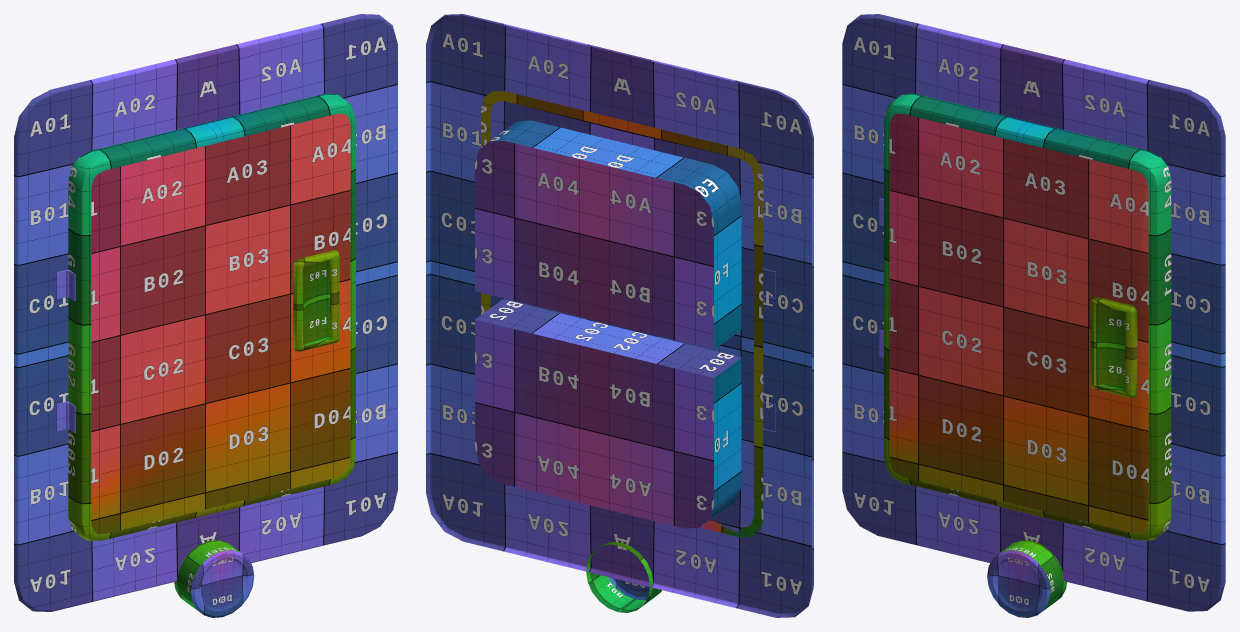
The model's file is CW_gameasset.fbx.
3 views of the same model, side by side, from view 1: azimuth 30°, elevation 25°; view 2: azimuth 150°, elevation 25°; view 3: azimuth 330°, elevation 25° (orthographic).
Visible parts, largest first — view 1: Door_low, Closet_low, ConnectCable_low; view 2: Closet_low, Door_low, ConnectCable_low; view 3: Door_low, Closet_low, ConnectCable_low.
Part boxes in pixels (x1,y1,x2,y2): Door_low: (67,93,355,540); Closet_low: (14,14,397,611); ConnectCable_low: (174,540,254,617); Closet_low: (426,14,813,617); Door_low: (481,91,763,537); ConnectCable_low: (586,542,661,612); Door_low: (884,93,1171,540); Closet_low: (842,14,1225,611); ConnectCable_low: (987,540,1066,617).
Bounding box in the file's own units: 130 × 180 × 25.41.
